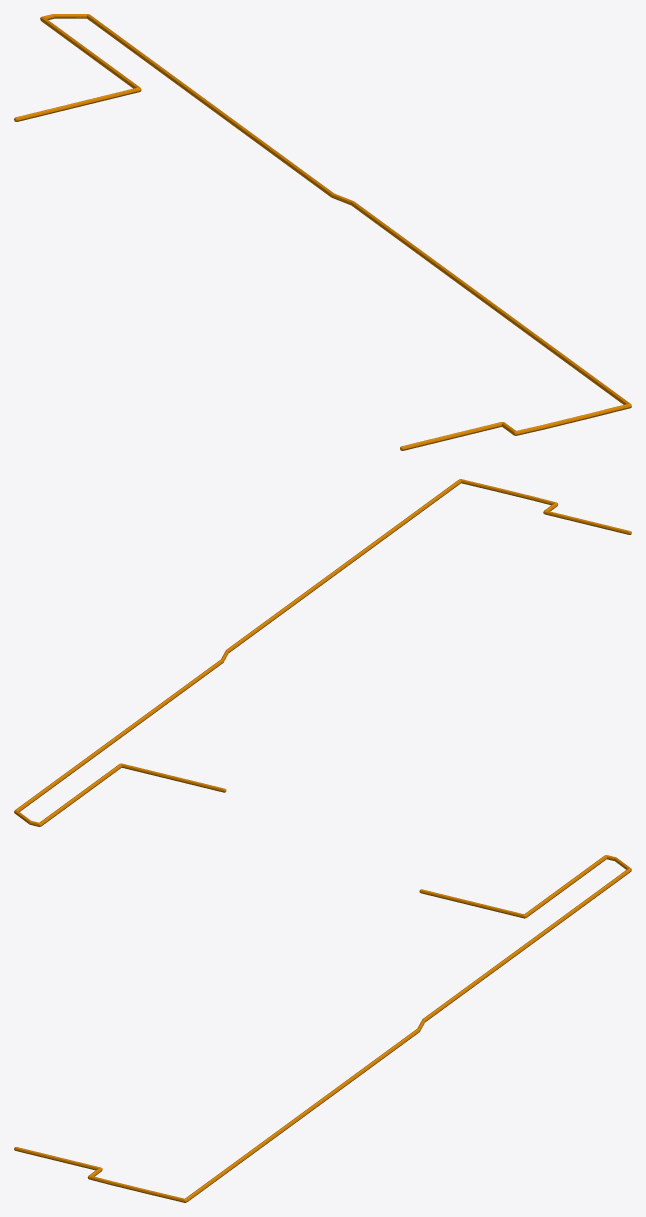
3 renders of one model, top to bottom at view 1: azimuth 30°, elevation 25°; view 2: azimuth 150°, elevation 25°; view 3: azimuth 330°, elevation 25°, orthographic. The views are drawn at different scales.
Size of the model in its own units: 980 by 20 by 4241.
